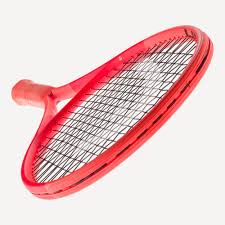tennis racket: (10, 25, 215, 202)
